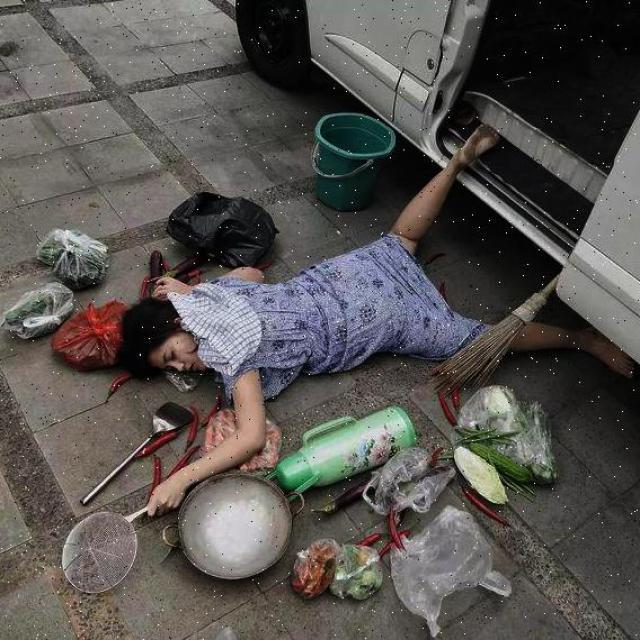fall: (108, 170, 523, 437)
